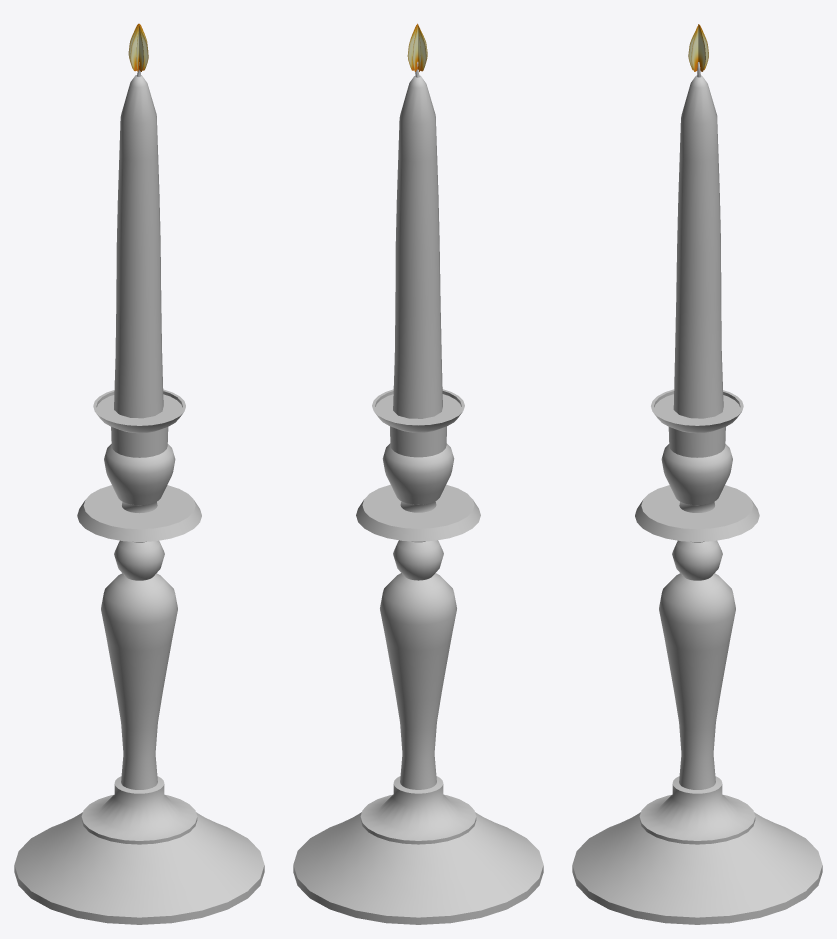
Rendered from brass_candleholder_a.fbx.
3 views of the same model, side by side, from view 1: azimuth 30°, elevation 25°; view 2: azimuth 150°, elevation 25°; view 3: azimuth 270°, elevation 25° (orthographic).
Visible parts, largest first — view 1: brass_candleholder_01_LOD0; view 2: brass_candleholder_01_LOD0; view 3: brass_candleholder_01_LOD0.
Part boxes in pixels (x1=…): brass_candleholder_01_LOD0: x1=14, y1=23, x2=264, y2=924; brass_candleholder_01_LOD0: x1=293, y1=23, x2=543, y2=924; brass_candleholder_01_LOD0: x1=572, y1=24, x2=822, y2=924.
Size of what is drawn, in the model's own units: 9.74 by 36.55 by 9.74.
